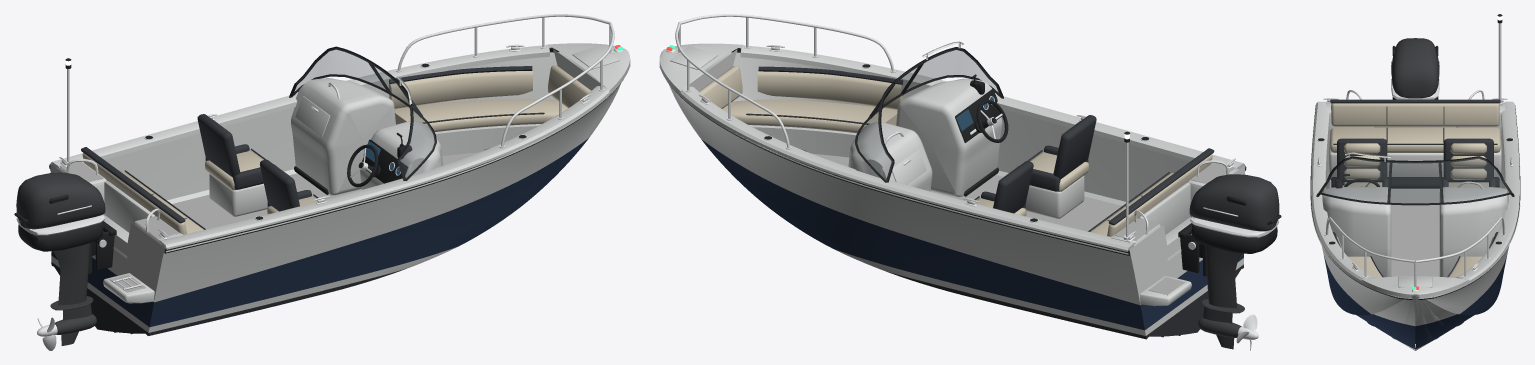
File: v20-inspired-hero.glb
The picture shows the model from 3 angles, left to right: view 1: azimuth 30°, elevation 25°; view 2: azimuth 150°, elevation 25°; view 3: azimuth 270°, elevation 25°; orthographic projection. The views are drawn at different scales.
Parts seen in each view (by area): view 1: Hull, Deck, Upholstery_Bow, Outboard, Console_Companion, Upholstery_Companion, Windshield, AftDeck, Console_Helm, Upholstery_AftBench, Rails, RubRail (+6 smaller); view 2: Hull, Deck, Upholstery_Bow, Outboard, Console_Helm, Upholstery_Helm, Windshield, Console_Companion, AftDeck, Upholstery_AftBench, Rails, Upholstery_Companion (+6 smaller); view 3: Deck, Upholstery_AftBench, Windshield, Hull, Console_Companion, Console_Helm, Outboard, Upholstery_Companion, Upholstery_Helm, Rails, Upholstery_Bow, RubRail (+3 smaller).
Boxes of the visible parts, x1=… form: Hull: x1=50, y1=46, x2=620, y2=335; Deck: x1=50, y1=43, x2=630, y2=249; Upholstery_Bow: x1=389, y1=65, x2=591, y2=155; Outboard: x1=14, y1=172, x2=105, y2=345; Console_Companion: x1=291, y1=78, x2=395, y2=195; Upholstery_Companion: x1=197, y1=114, x2=275, y2=216; Windshield: x1=289, y1=46, x2=436, y2=180; AftDeck: x1=57, y1=159, x2=182, y2=258; Console_Helm: x1=360, y1=120, x2=443, y2=189; Upholstery_AftBench: x1=81, y1=147, x2=205, y2=234; Rails: x1=66, y1=14, x2=614, y2=290; RubRail: x1=49, y1=47, x2=630, y2=253; Hull: x1=669, y1=47, x2=1245, y2=339; Deck: x1=659, y1=43, x2=1244, y2=251; Upholstery_Bow: x1=699, y1=66, x2=903, y2=157; Outboard: x1=1189, y1=174, x2=1281, y2=349; Console_Helm: x1=896, y1=78, x2=1002, y2=197; Upholstery_Helm: x1=1017, y1=115, x2=1096, y2=218; Windshield: x1=855, y1=41, x2=1003, y2=182; Console_Companion: x1=848, y1=122, x2=932, y2=191; AftDeck: x1=1111, y1=162, x2=1238, y2=260; Upholstery_AftBench: x1=1088, y1=148, x2=1214, y2=236; Rails: x1=675, y1=14, x2=1228, y2=234; Upholstery_Companion: x1=974, y1=161, x2=1033, y2=216; Deck: x1=1311, y1=101, x2=1519, y2=298; Upholstery_AftBench: x1=1329, y1=99, x2=1501, y2=188; Windshield: x1=1316, y1=152, x2=1514, y2=205; Hull: x1=1322, y1=246, x2=1508, y2=350; Console_Companion: x1=1439, y1=181, x2=1508, y2=277; Console_Helm: x1=1322, y1=187, x2=1391, y2=277; Outboard: x1=1391, y1=38, x2=1439, y2=99; Upholstery_Companion: x1=1442, y1=138, x2=1495, y2=187; Upholstery_Helm: x1=1335, y1=138, x2=1388, y2=187; Rails: x1=1324, y1=90, x2=1506, y2=287; Upholstery_Bow: x1=1332, y1=232, x2=1498, y2=295; RubRail: x1=1310, y1=105, x2=1520, y2=299.
Size of the model in its own units: 5.97 by 2.23 by 2.09.
